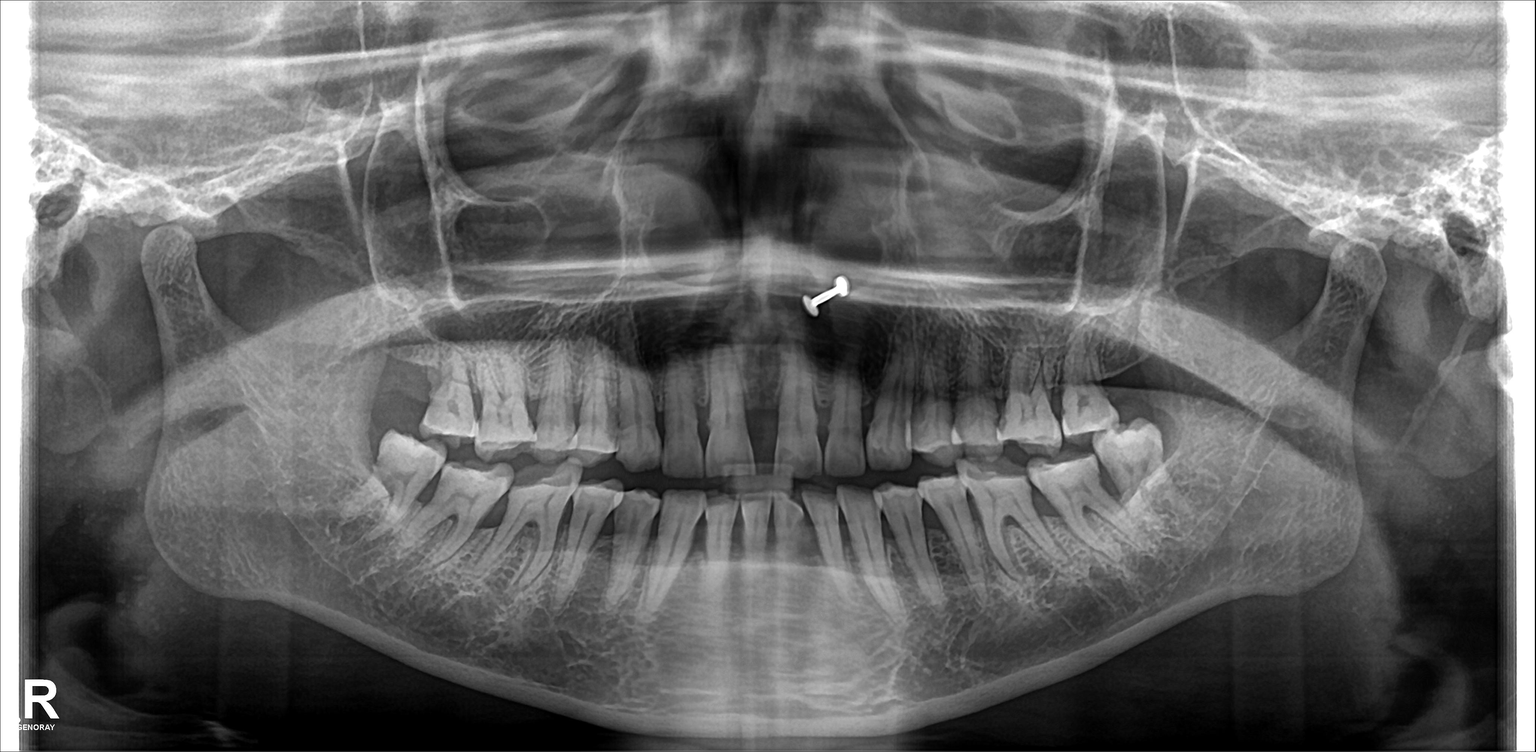Impacted Third Molar: (371, 436, 434, 538), (1099, 437, 1170, 512)
Missing Tooth: (374, 352, 423, 420), (1108, 328, 1150, 401)
